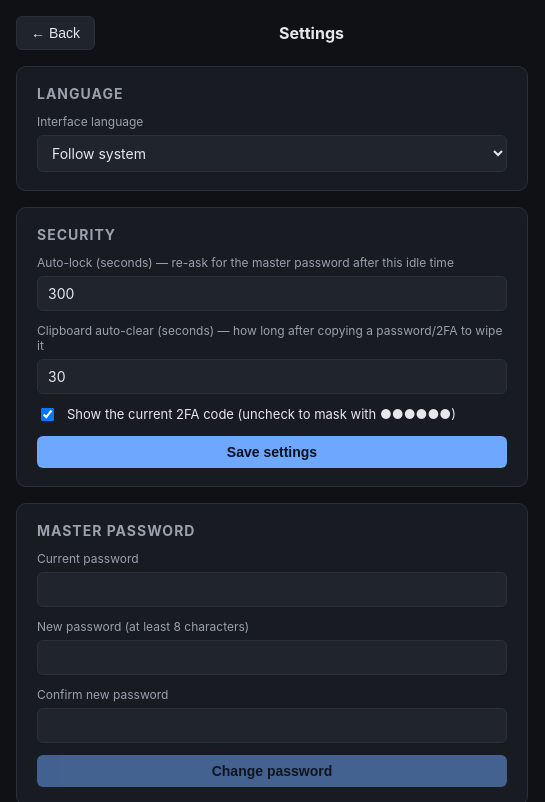
it: Settings — load & save › persists settings and flashes the saved confirmation
The image size is (545, 802).
Check: the heading "Settings" is shown, box [279, 23, 344, 43]
What coordinates should you click on to do the following:
click the button "Save settings"
I would click on:
 (272, 452)
Its box is [37, 436, 507, 468].
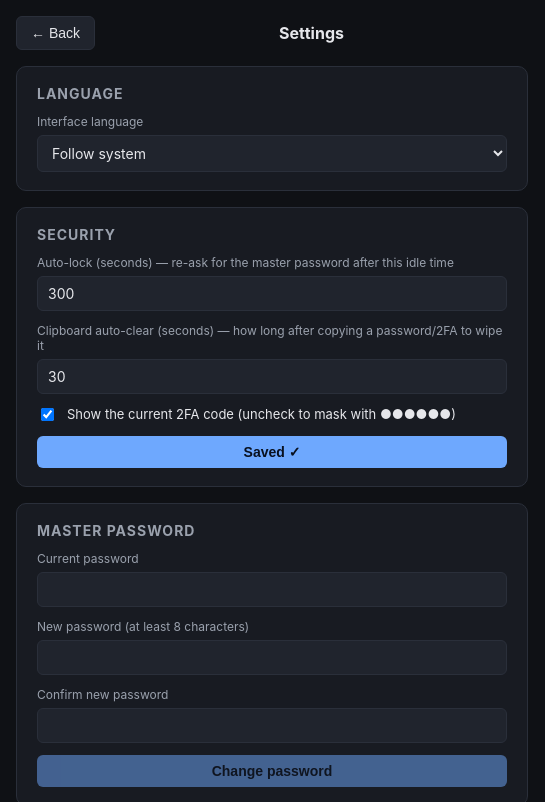
Check: the button "Saved ✓" is shown, box [37, 436, 507, 468]
